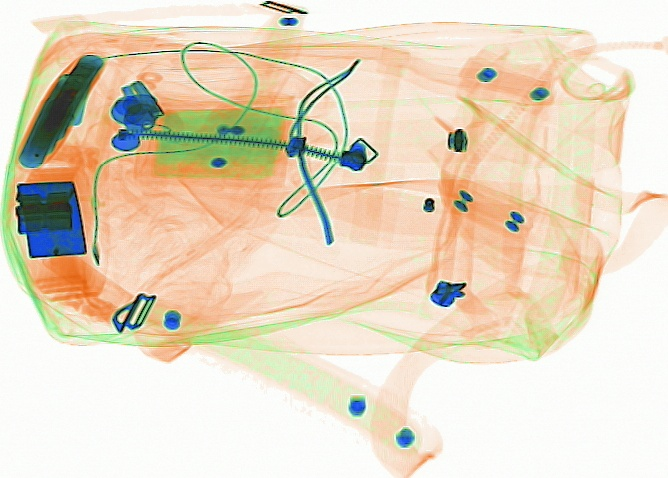powerbank: (11, 53, 105, 172)
